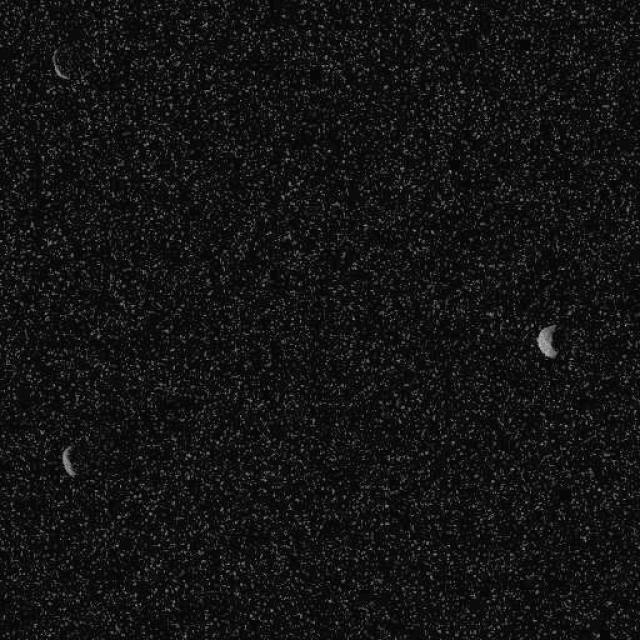D2: (535, 322, 559, 358), (50, 44, 72, 80), (60, 445, 78, 477)
